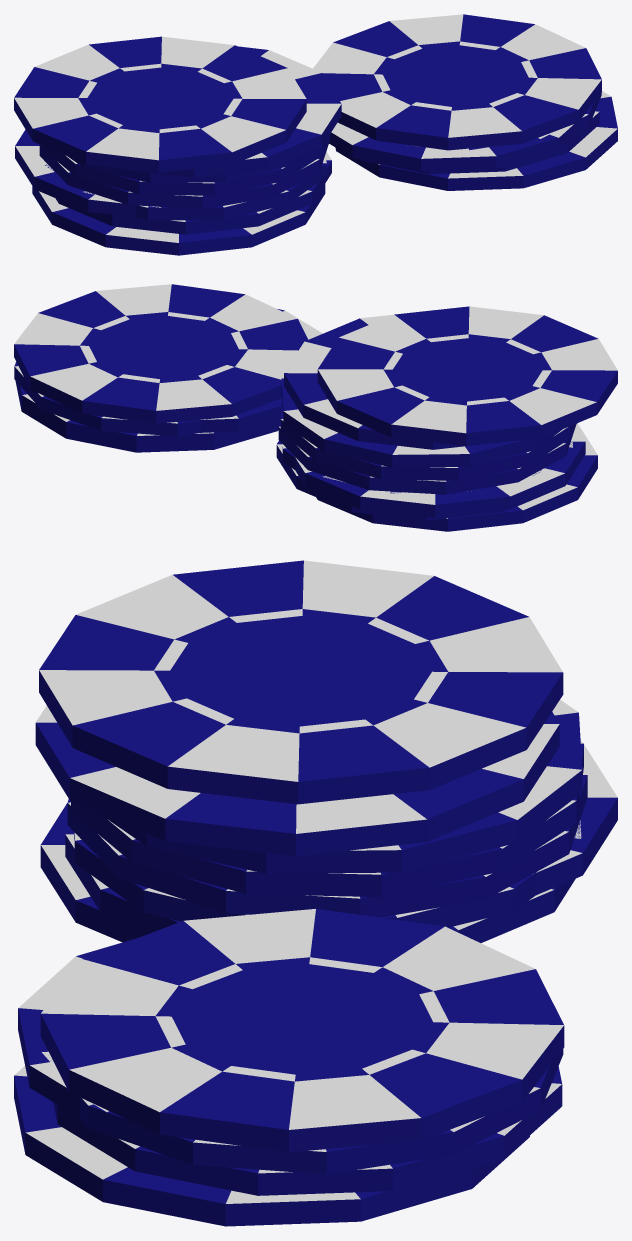
Rendered from Chip Cursor.glb.
3 renders of one model, top to bottom at view 1: azimuth 30°, elevation 25°; view 2: azimuth 150°, elevation 25°; view 3: azimuth 270°, elevation 25°, orthographic. The views are drawn at different scales.
Visible parts, largest first — view 1: Circle.004, Circle.009, Circle.001, Circle.005, Circle.007, Circle.003, Circle.022, Circle.028, Circle.008, Circle.015, Circle.029, Circle.002 (+2 smaller); view 2: Circle.004, Circle.009, Circle.015, Circle.002, Circle.003, Circle.001, Circle.022, Circle.028, Circle.006, Circle.011, Circle.007, Circle.008 (+2 smaller); view 3: Circle.009, Circle.004, Circle.003, Circle.005, Circle.002, Circle.006, Circle.028, Circle.022, Circle.011, Circle.029, Circle.008, Circle.015 (+2 smaller).
Part boxes in pixels (x1,y1,x2,y2): Circle.004: (14,36,306,172); Circle.009: (313,14,601,150); Circle.001: (32,184,325,255); Circle.005: (335,91,617,190); Circle.007: (329,121,579,171); Circle.003: (118,46,341,177); Circle.022: (39,135,329,209); Circle.028: (41,141,325,195); Circle.008: (55,151,331,234); Circle.015: (15,129,164,217); Circle.029: (43,152,326,220); Circle.002: (68,154,305,182); Circle.004: (317,306,617,446); Circle.009: (14,284,308,423); Circle.015: (295,426,585,517); Circle.002: (281,377,562,467); Circle.003: (284,310,465,449); Circle.001: (316,423,597,531); Circle.022: (278,421,576,494); Circle.028: (280,406,571,480); Circle.006: (15,362,280,448); Circle.011: (14,362,200,436); Circle.007: (200,309,322,432); Circle.008: (276,440,507,520); Circle.009: (40,909,564,1152); Circle.004: (39,560,563,804); Circle.003: (35,705,559,856); Circle.005: (14,1066,529,1226); Circle.002: (97,699,582,873); Circle.006: (53,1066,562,1195); Circle.028: (71,741,583,896); Circle.022: (67,771,587,917); Circle.011: (41,1044,563,1174); Circle.029: (74,820,581,927); Circle.008: (65,828,575,942); Circle.015: (532,744,617,895).
Bounding box in the file's own units: 0.1114 × 0.0192 × 0.0584.
